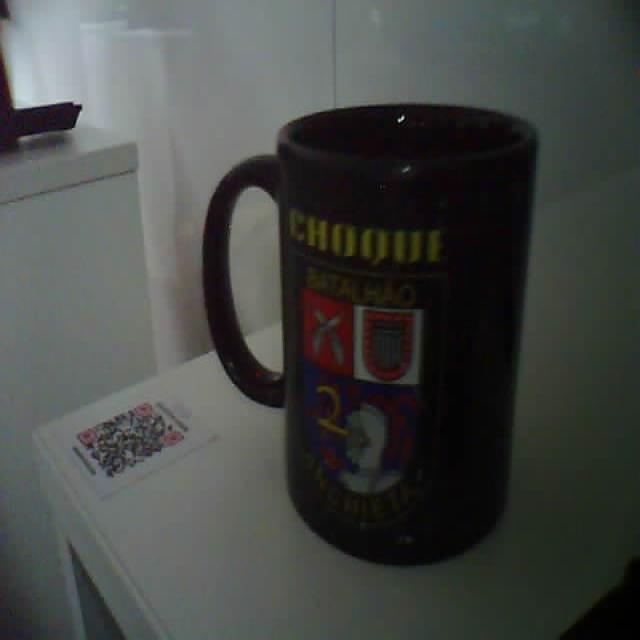caneca: (203, 104, 536, 563)
